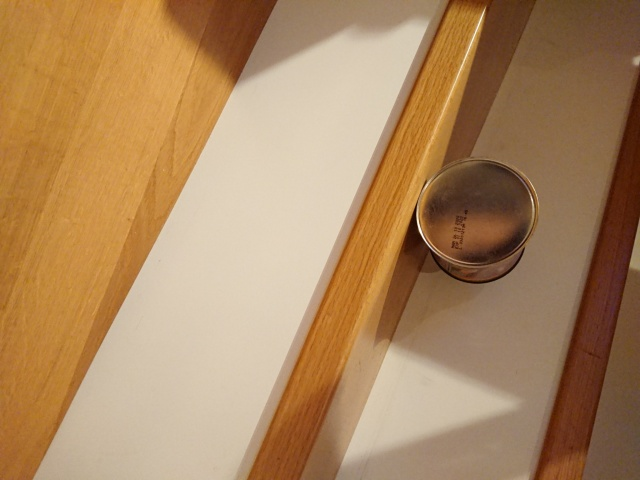Nescafe Classic 225g: (412, 154, 542, 288)
